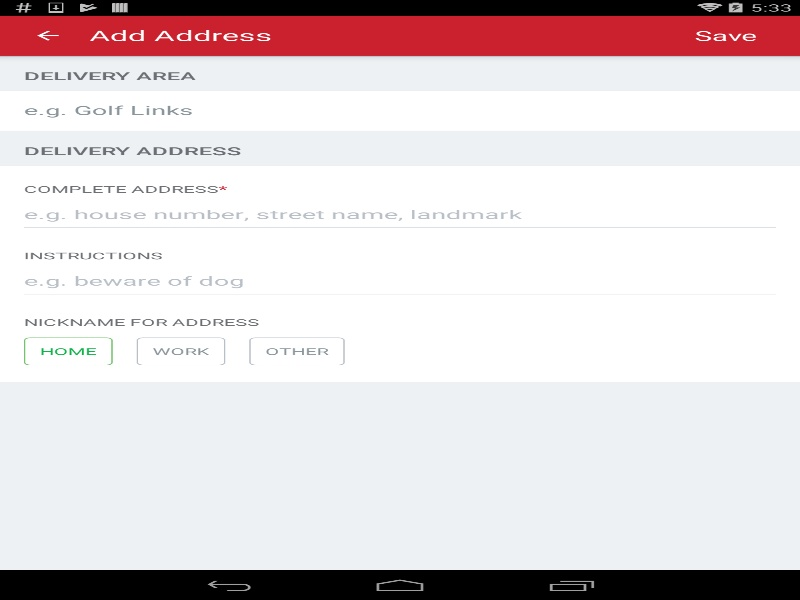Button: (10, 15, 85, 55)
Input: (24, 269, 776, 299), (24, 203, 776, 232)
